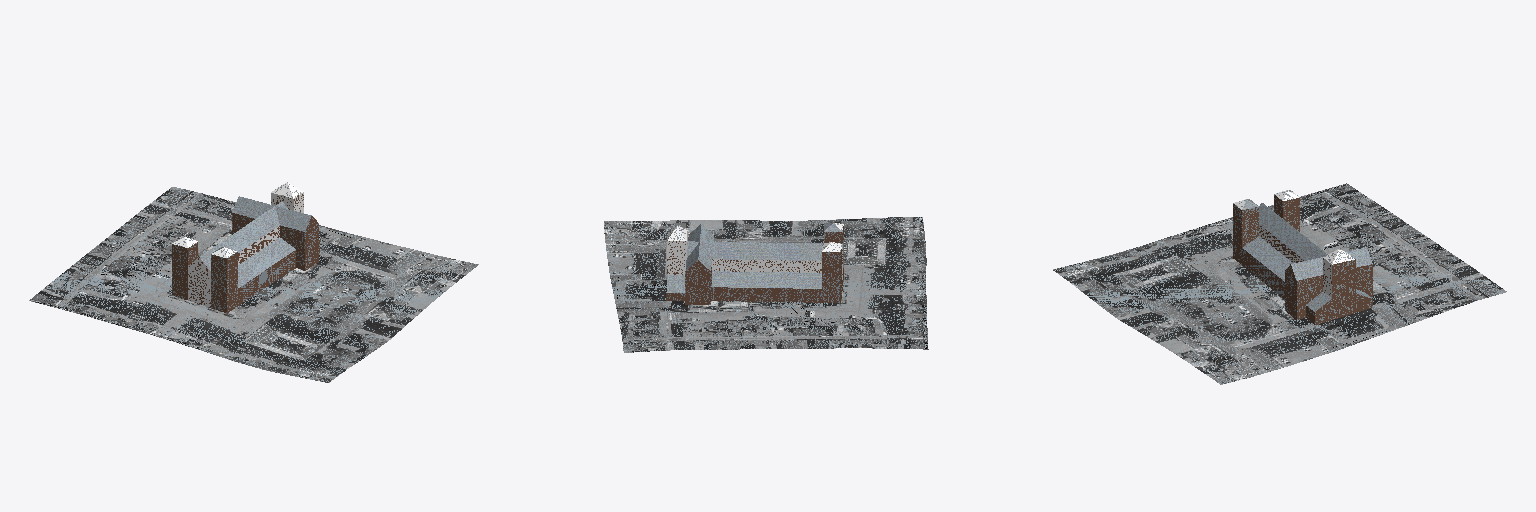
3 renders of one model, left to right at view 1: azimuth 30°, elevation 25°; view 2: azimuth 150°, elevation 25°; view 3: azimuth 270°, elevation 25°, orthographic.
Parts seen in each view (by area): view 1: Mesh8 Sol Model, Mesh5 Nef_romane Model, Mesh9 Transept_ottonien Model; view 2: Mesh8 Sol Model, Mesh5 Nef_romane Model, Mesh9 Transept_ottonien Model; view 3: Mesh8 Sol Model, Mesh9 Transept_ottonien Model, Mesh5 Nef_romane Model.
Part boxes in pixels (x1,y1,x2,y2): Mesh8 Sol Model: (29,187,478,382); Mesh5 Nef_romane Model: (172,210,295,313); Mesh9 Transept_ottonien Model: (232,182,319,270); Mesh8 Sol Model: (604,217,928,352); Mesh5 Nef_romane Model: (711,226,843,302); Mesh9 Transept_ottonien Model: (666,223,713,304); Mesh8 Sol Model: (1053,183,1506,384); Mesh9 Transept_ottonien Model: (1285,247,1372,324); Mesh5 Nef_romane Model: (1233,195,1327,299).
Size of the model in its own units: 284 by 52.28 by 289.
5 materials, 2 textured.